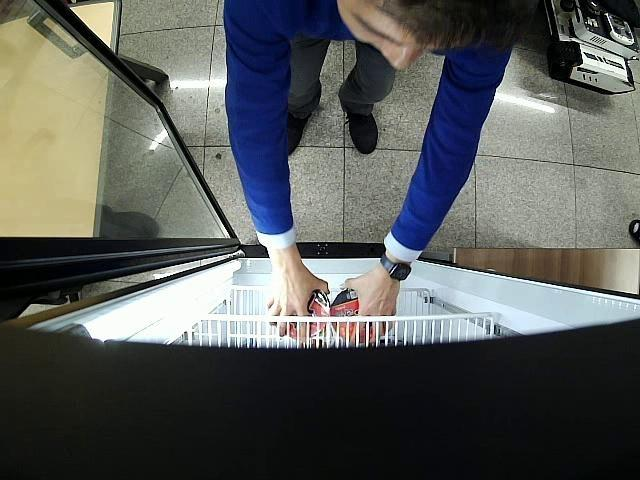01_ShinRamen_L: (332, 289, 372, 345), (288, 289, 331, 338)
